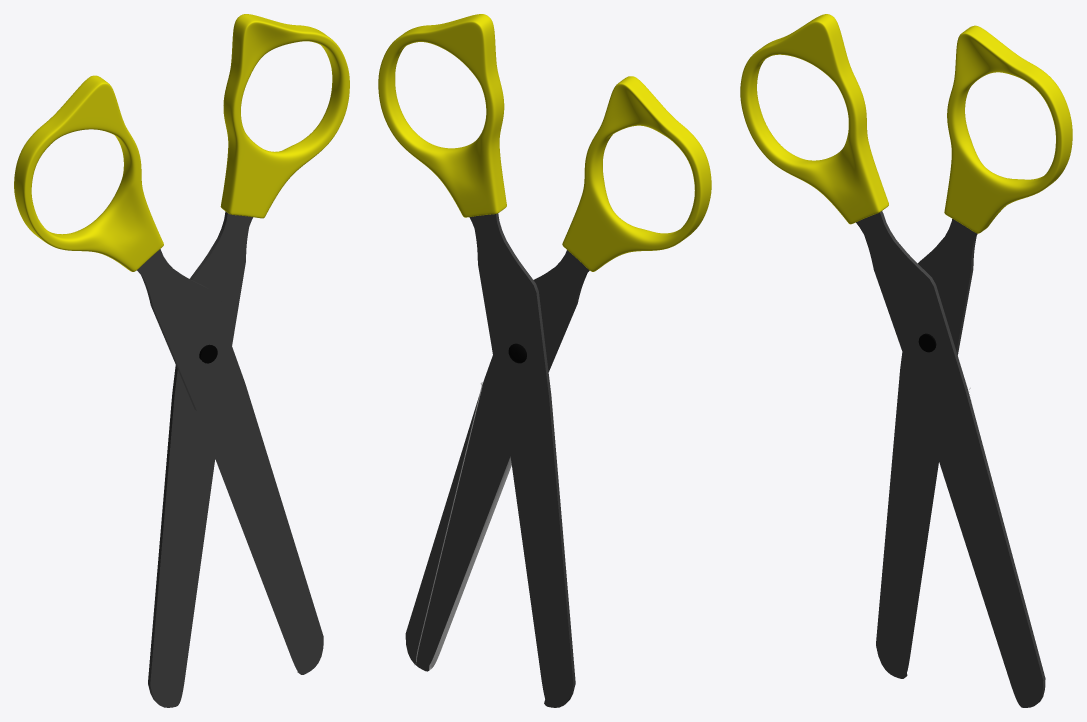
File: scissors.FBX
The picture shows the model from 3 angles, left to right: view 1: azimuth 30°, elevation 25°; view 2: azimuth 150°, elevation 25°; view 3: azimuth 330°, elevation 25°; orthographic projection.
Visible parts, largest first — view 1: Steel 2, Steel 1, Object001, Body; view 2: Steel 1, Steel 2, Object001, Body, Lama 2; view 3: Steel 2, Steel 1, Body, Object001.
Part boxes in pixels (x1,y1,x2,y2): Steel 2: (137,249,323,674); Steel 1: (148,211,252,707); Object001: (220,14,349,218); Body: (14,75,163,271); Steel 1: (469,213,575,707); Steel 2: (405,250,589,671); Object001: (378,14,506,217); Body: (562,76,711,271); Lama 2: (429,456,511,669); Steel 2: (856,211,1045,707); Steel 1: (876,219,977,678); Body: (740,14,888,224); Object001: (944,25,1072,233).
Size of the model in its own units: 55.14 by 109 by 3.44.
